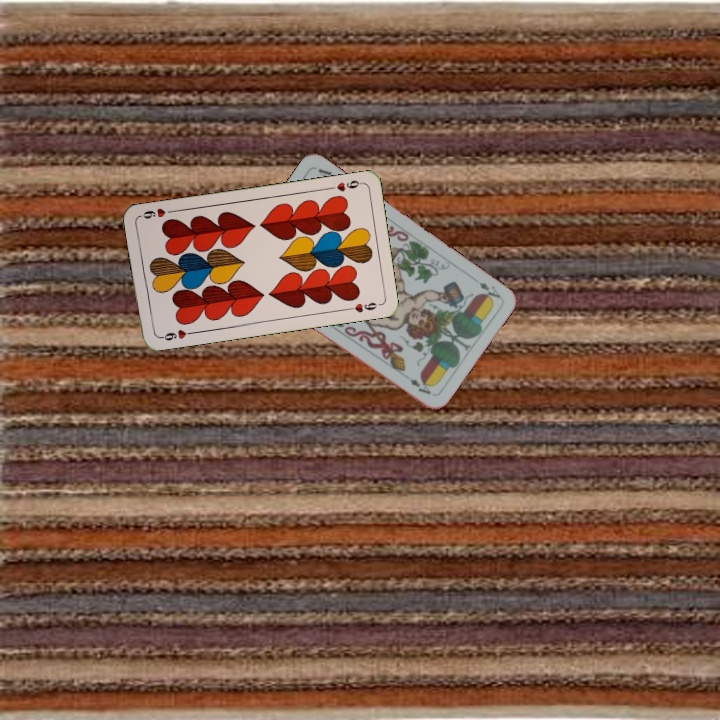EA: (475, 278, 503, 304)
H9: (324, 176, 365, 194), (155, 325, 196, 343)
